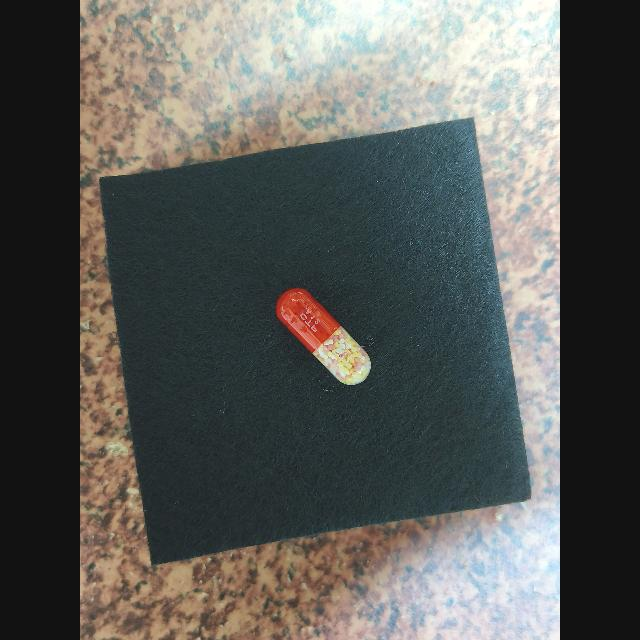Intact Capsule: (276, 288, 371, 386)
